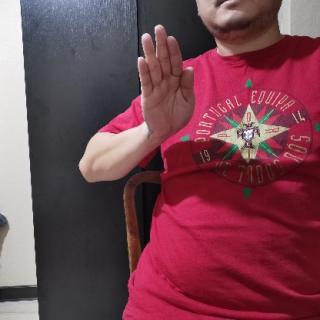SEEN: (134, 20, 198, 144)
